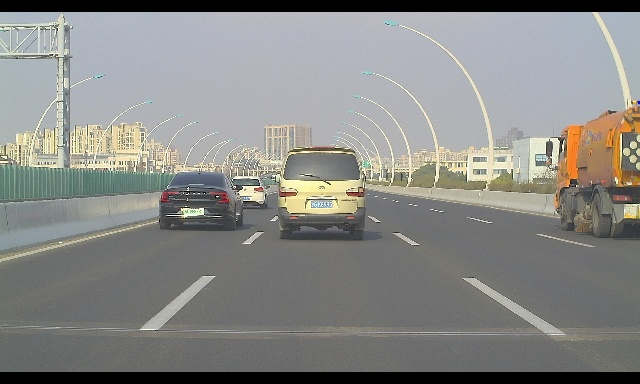car: (275, 147, 366, 240), (159, 167, 244, 230), (230, 176, 270, 209), (262, 177, 269, 183), (271, 176, 277, 183)
truck: (545, 101, 640, 238)
